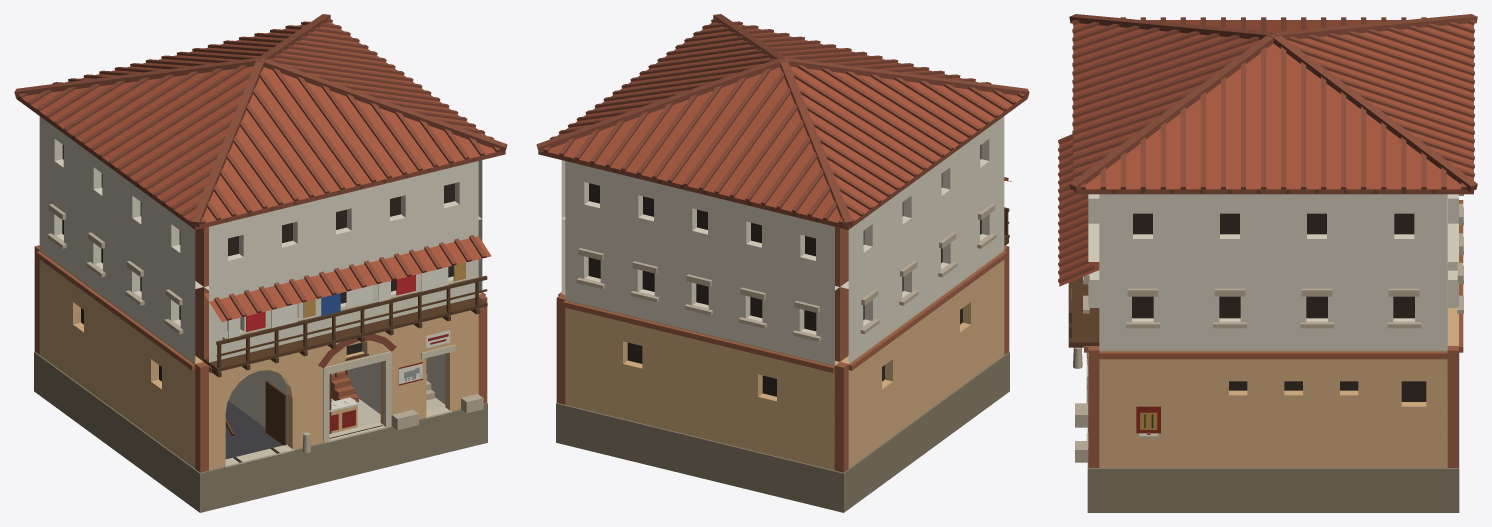
File: rome_insula_j.glb
3 renders of one model, left to right at view 1: azimuth 30°, elevation 25°; view 2: azimuth 150°, elevation 25°; view 3: azimuth 270°, elevation 25°, orthographic. The views are drawn at different scales.
Parts seen in each view (by area): view 1: rome_insula_j; view 2: rome_insula_j; view 3: rome_insula_j.
Part boxes in pixels (x1=…): rome_insula_j: x1=14, y1=14, x2=507, y2=512; rome_insula_j: x1=536, y1=14, x2=1029, y2=512; rome_insula_j: x1=1058, y1=14, x2=1477, y2=512.
Size of the model in its own units: 13.25 by 14.32 by 13.61.
